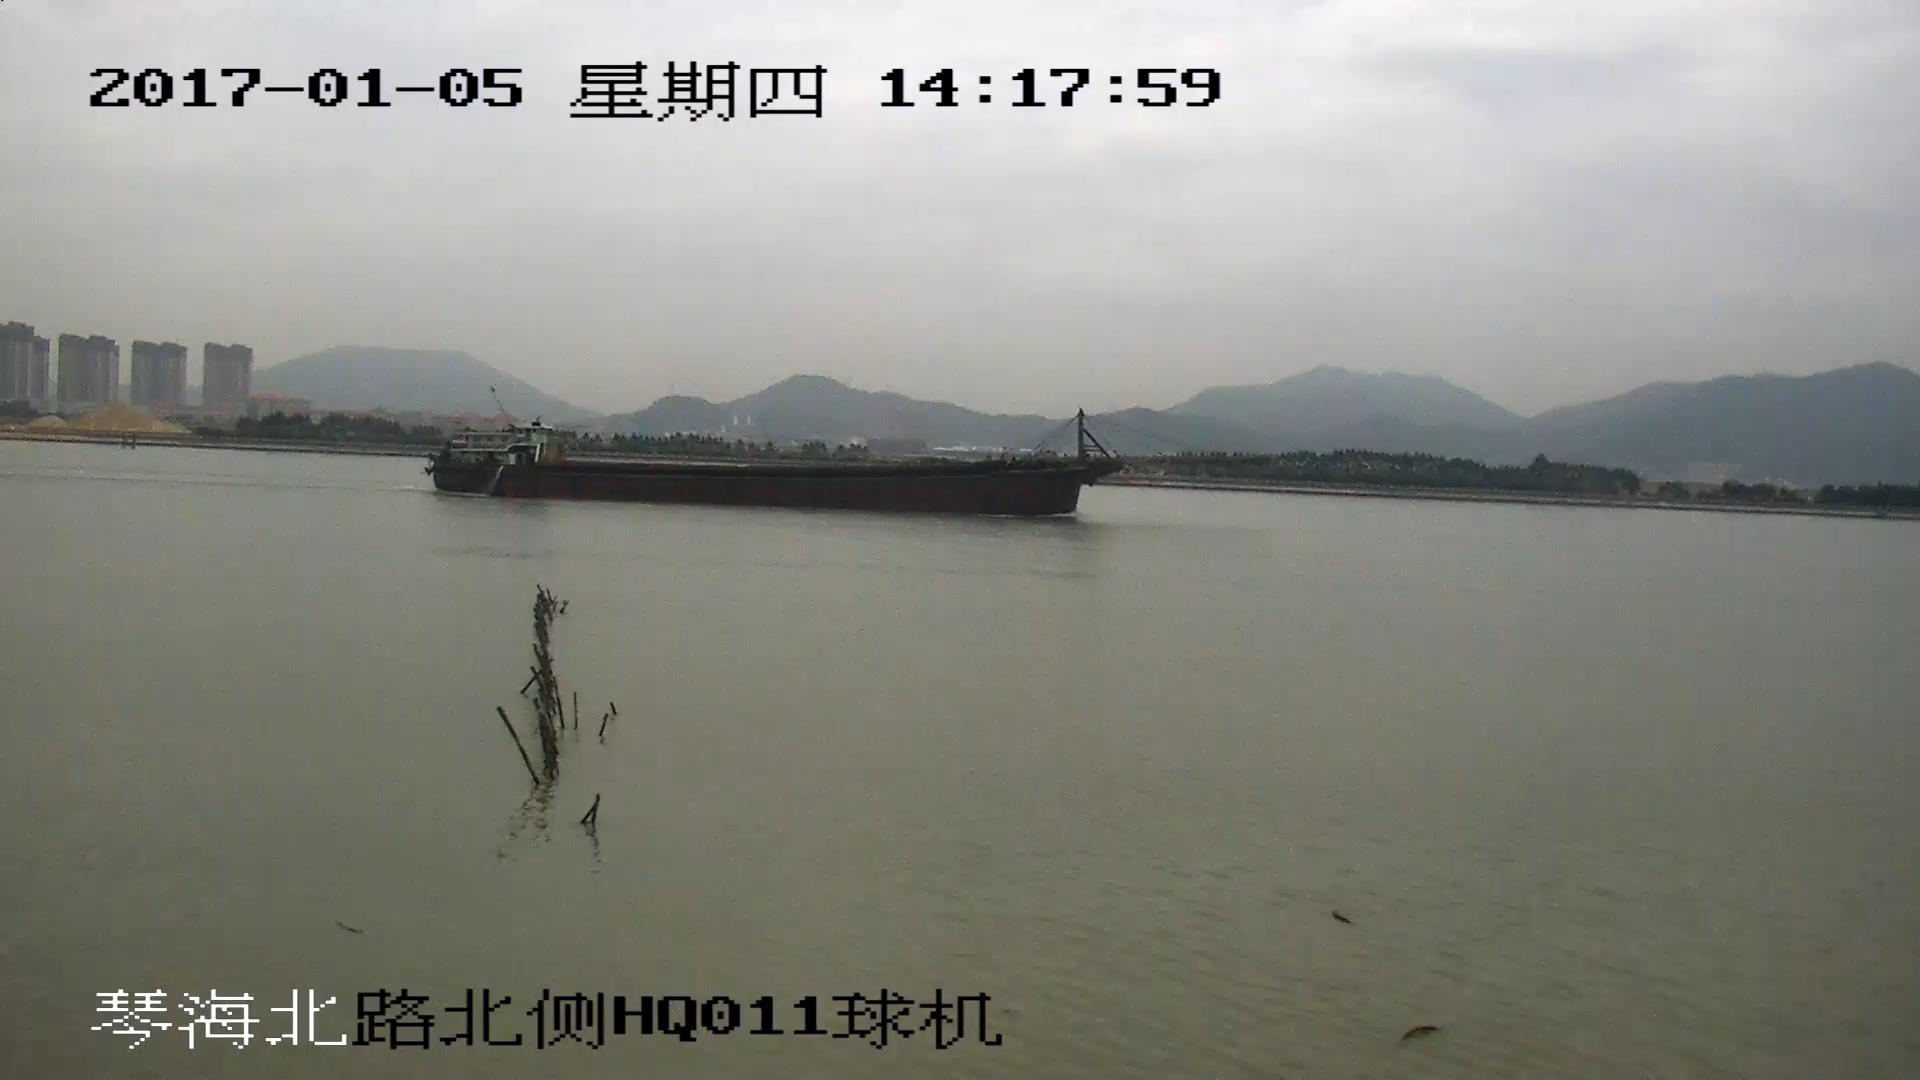Ship: (430, 411, 1180, 516)
